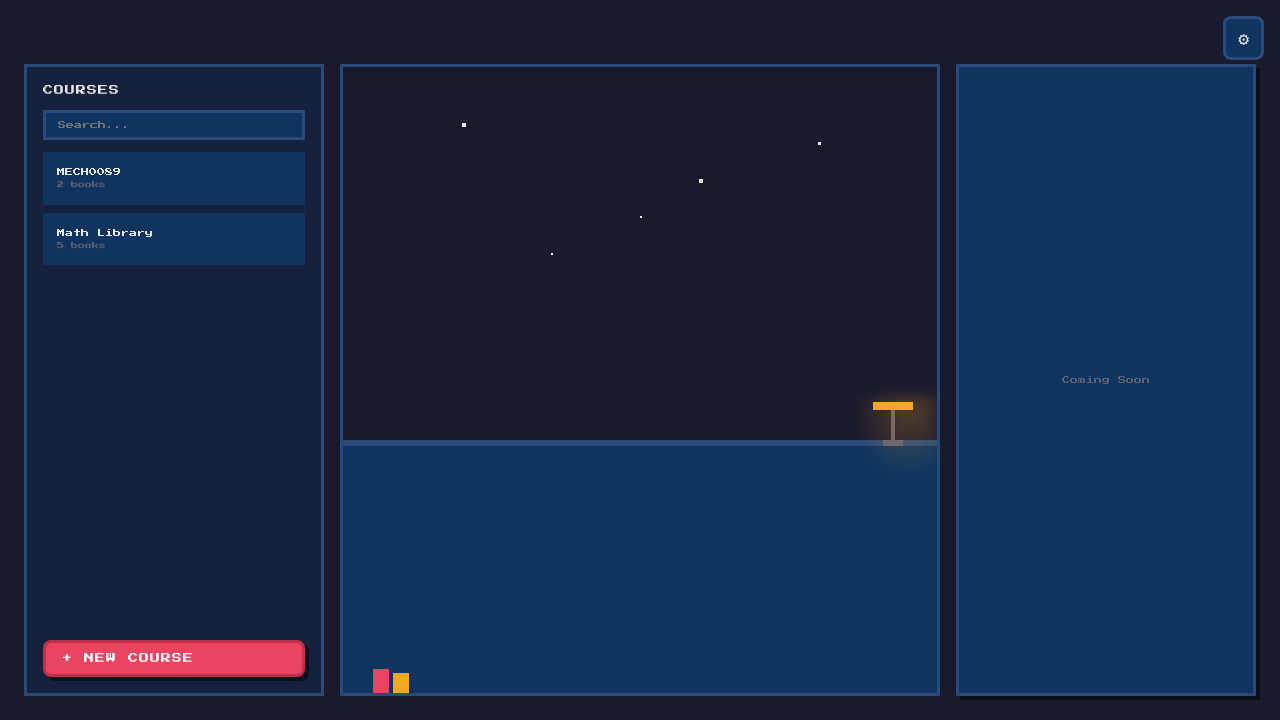
BookshelfPage › double-clicking a course transitions to course-preview-view
Double-click the button titled "MECH0089": (89, 172) [43,152,305,204]
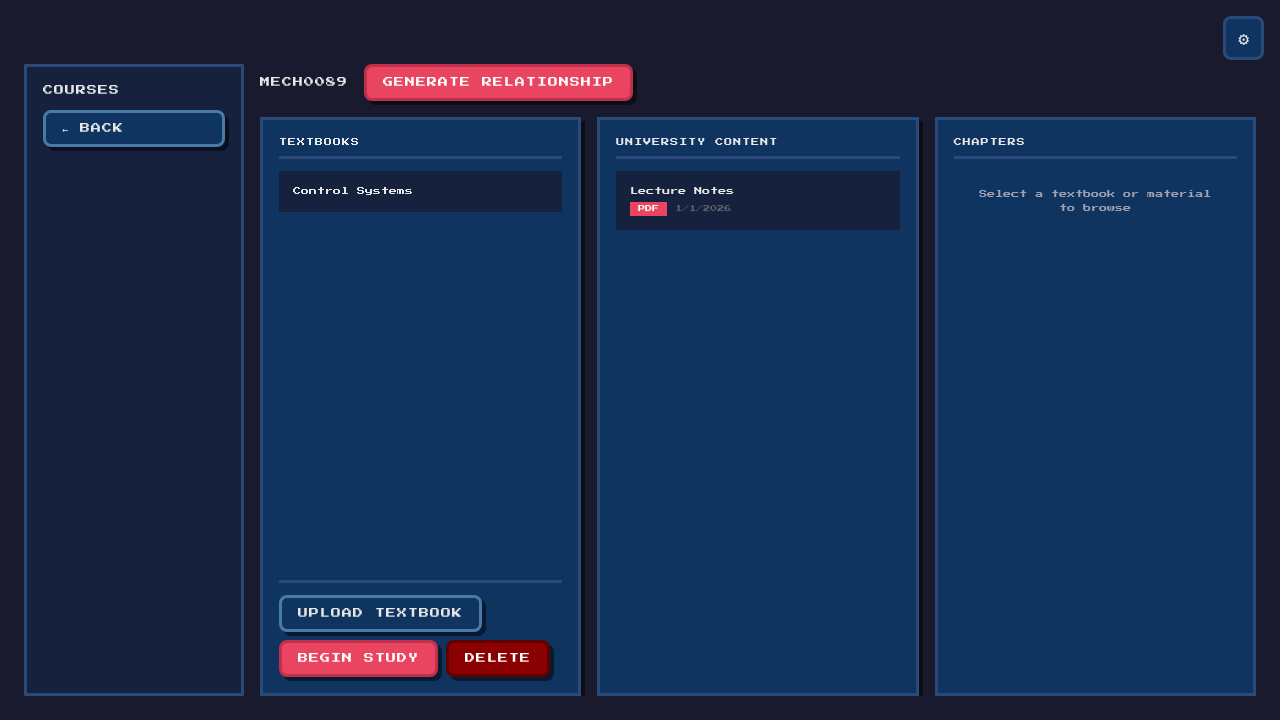
Expected: the element with class "course-preview-view" is shown
